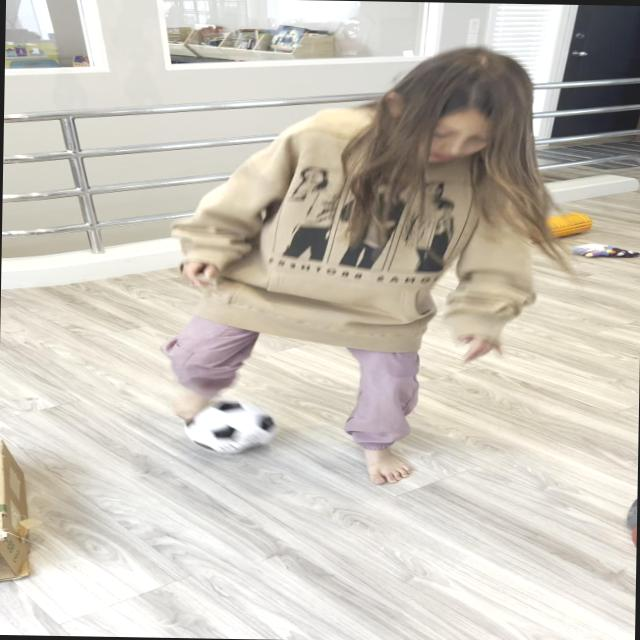Soccer Ball: (183, 399, 276, 454)
